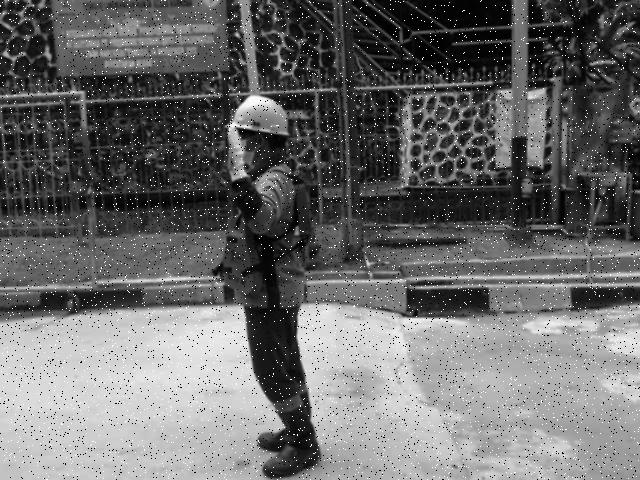gloves: (223, 127, 251, 186)
helmet: (223, 92, 293, 138)
safety-shoes: (260, 440, 323, 480), (255, 426, 289, 455)
vest: (214, 181, 317, 298)
